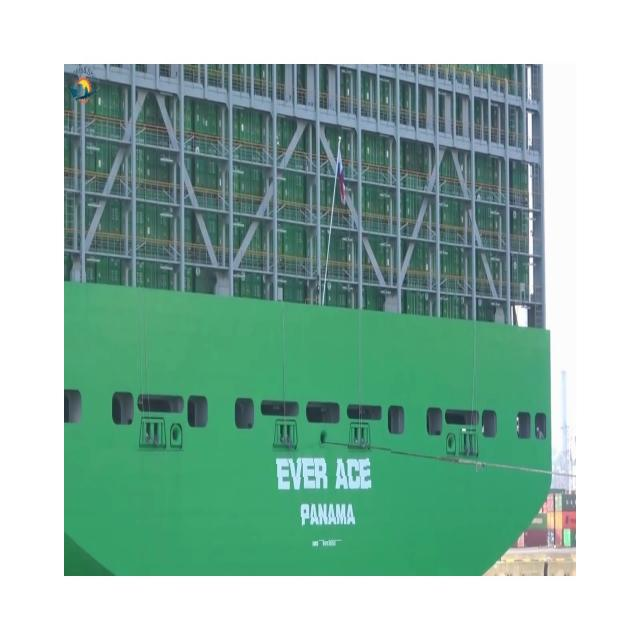OCR: (264, 443, 392, 542)
